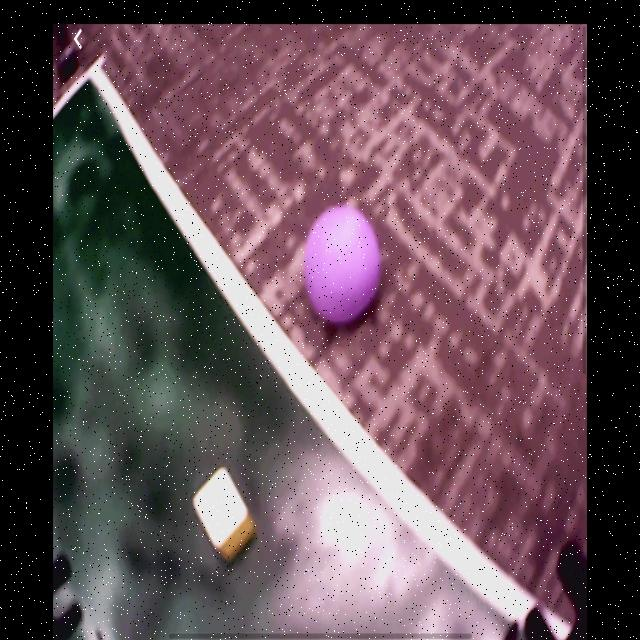ball: (307, 205, 382, 328)
